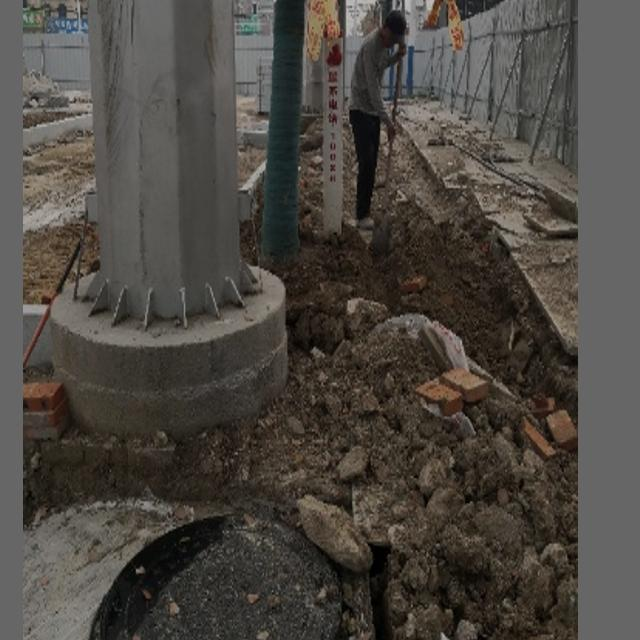good: (84, 503, 352, 640)
